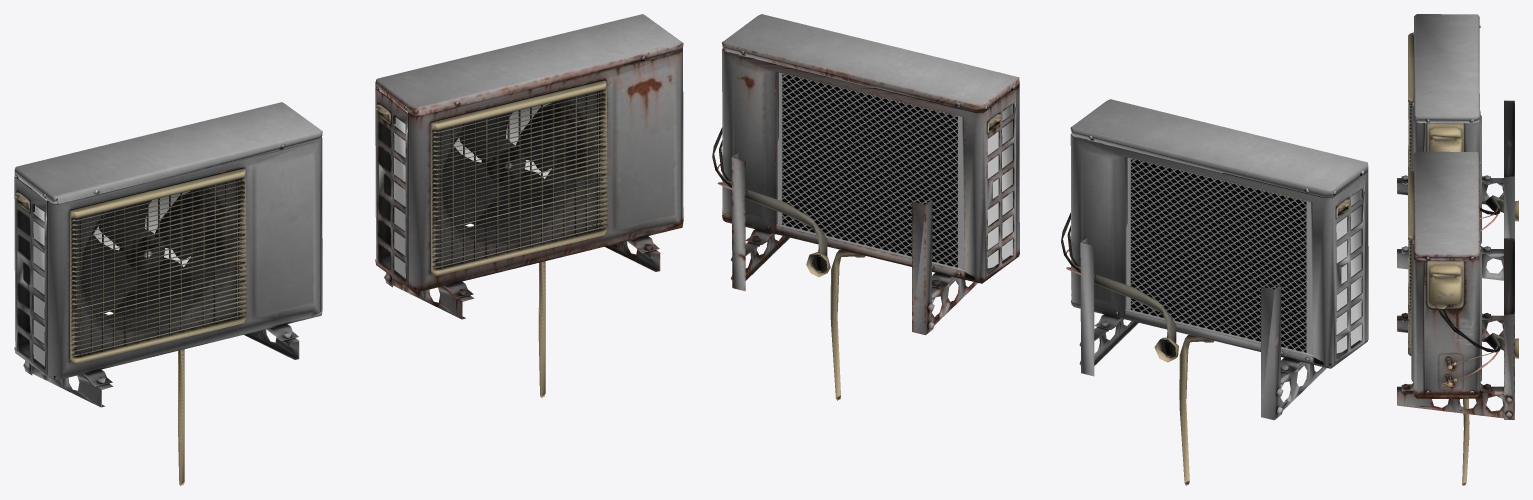
Rendered from aircon.glb.
The picture shows the model from 3 angles, left to right: view 1: azimuth 30°, elevation 25°; view 2: azimuth 150°, elevation 25°; view 3: azimuth 270°, elevation 25°; orthographic projection. The views are drawn at different scales.
Parts seen in each view (by area): view 1: exterior_aircon_unit_rusted baked, exterior_aircon_unit baked; view 2: exterior_aircon_unit baked, exterior_aircon_unit_rusted baked; view 3: exterior_aircon_unit_rusted baked, exterior_aircon_unit baked.
Part boxes in pixels (bbox=[...]): exterior_aircon_unit_rusted baked: bbox=[375, 14, 683, 397]; exterior_aircon_unit baked: bbox=[14, 102, 322, 485]; exterior_aircon_unit baked: bbox=[1061, 99, 1368, 485]; exterior_aircon_unit_rusted baked: bbox=[712, 14, 1019, 400]; exterior_aircon_unit_rusted baked: bbox=[1397, 151, 1518, 485]; exterior_aircon_unit baked: bbox=[1397, 14, 1518, 280].
Size of the model in its own units: 1.8 by 0.9281 by 0.3742.
Materials: 4 (4 with a texture image).
